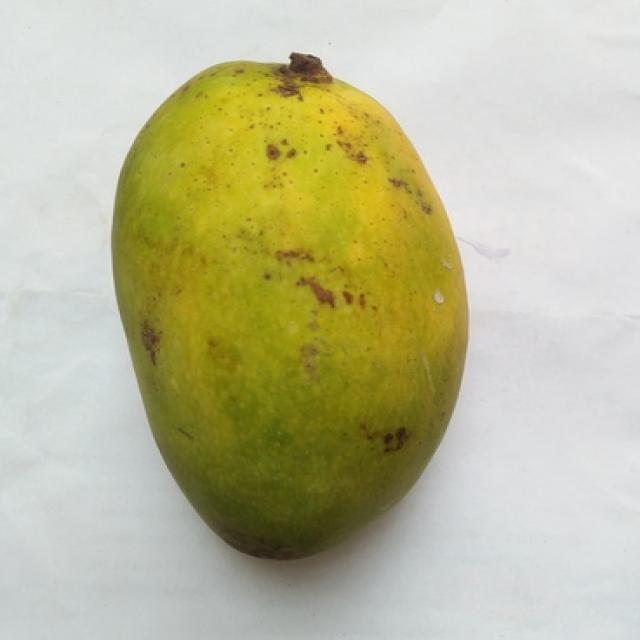Mango: (115, 63, 466, 557)
